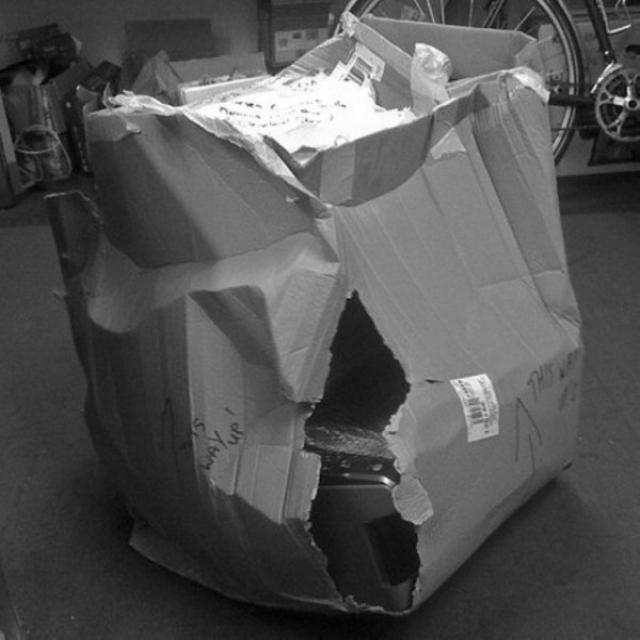hole: (296, 291, 430, 619)
